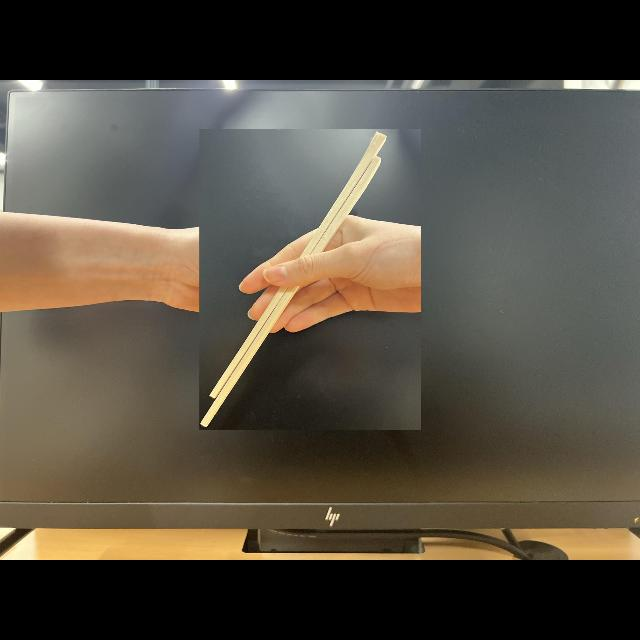stick: (200, 130, 420, 430)
